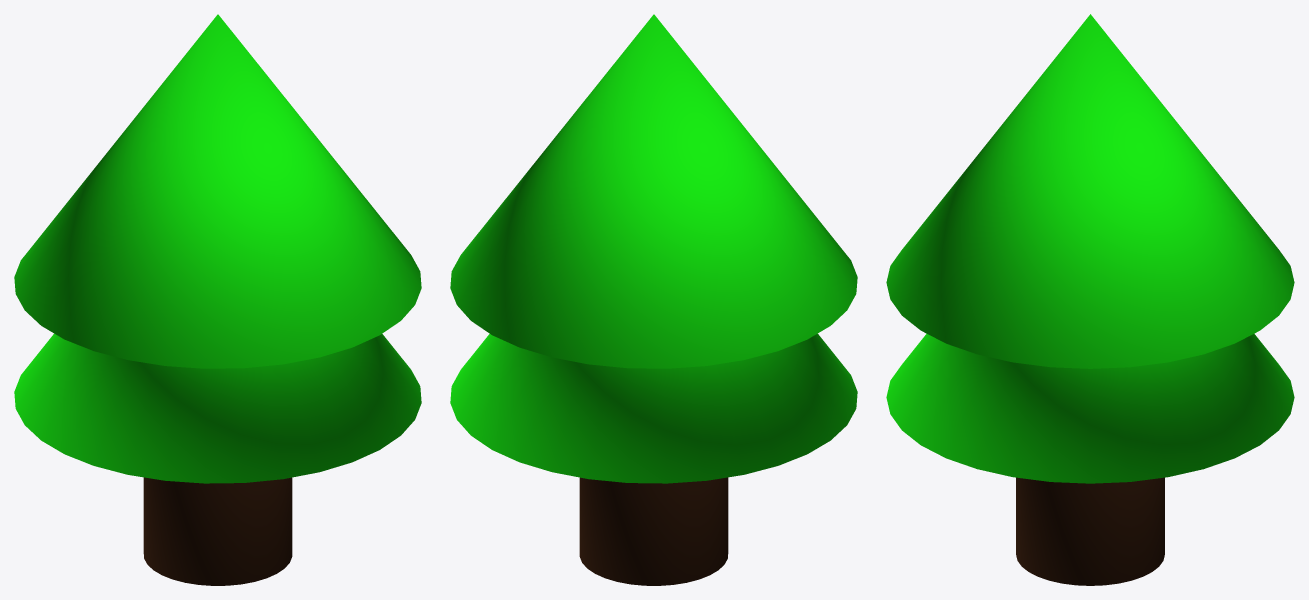
The model's file is Arvore.fbx.
3 views of the same model, side by side, from view 1: azimuth 30°, elevation 25°; view 2: azimuth 150°, elevation 25°; view 3: azimuth 270°, elevation 25° (orthographic).
Parts seen in each view (by area): view 1: Cone.001, Cone, Cylinder; view 2: Cone.001, Cone, Cylinder; view 3: Cone.001, Cone, Cylinder.
Part boxes in pixels (x1=…): Cone.001: x1=14, y1=14, x2=421, y2=368; Cone: x1=14, y1=333, x2=421, y2=483; Cylinder: x1=143, y1=477, x2=292, y2=585; Cone.001: x1=450, y1=14, x2=857, y2=368; Cone: x1=450, y1=333, x2=857, y2=483; Cylinder: x1=579, y1=477, x2=728, y2=585; Cone.001: x1=886, y1=14, x2=1294, y2=368; Cone: x1=886, y1=333, x2=1294, y2=483; Cylinder: x1=1016, y1=477, x2=1164, y2=585.
Bounding box in the file's own units: 535 × 782 × 535.
